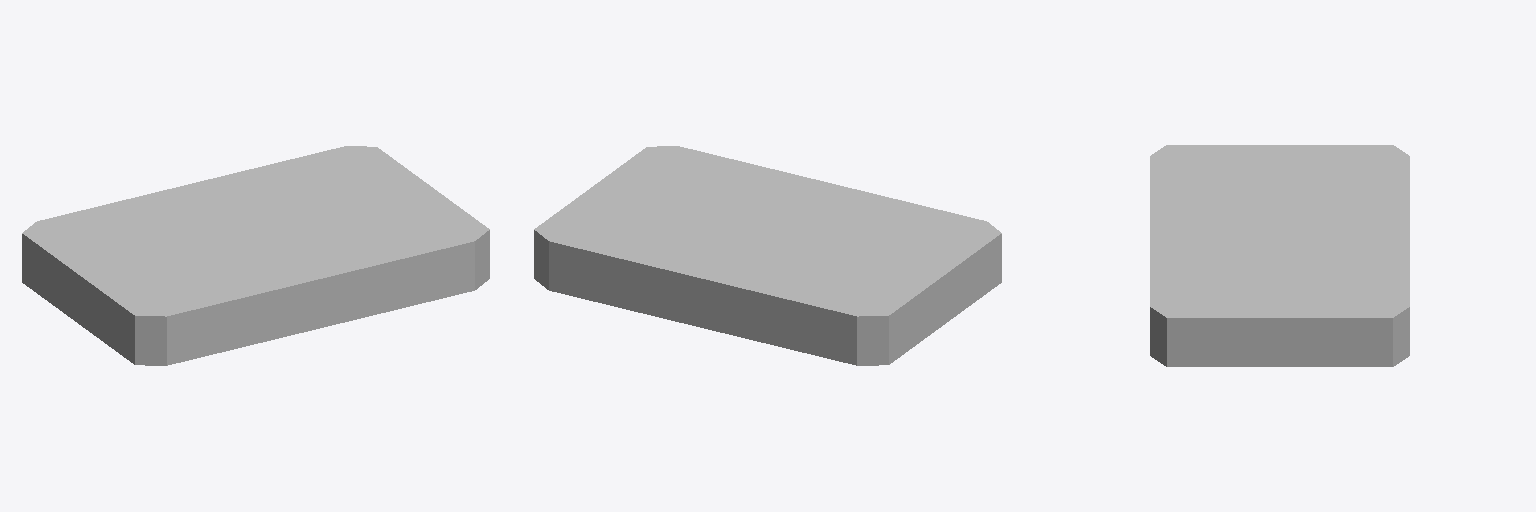
Rendered from chainPart.obj.
3 views of the same model, side by side, from view 1: azimuth 30°, elevation 25°; view 2: azimuth 150°, elevation 25°; view 3: azimuth 270°, elevation 25° (orthographic).
Parts seen in each view (by area): view 1: Cube_Cube.001; view 2: Cube_Cube.001; view 3: Cube_Cube.001.
Part boxes in pixels (bbox=[...]): Cube_Cube.001: bbox=[22, 146, 489, 365]; Cube_Cube.001: bbox=[534, 146, 1001, 365]; Cube_Cube.001: bbox=[1150, 145, 1409, 366].
Size of the model in its own units: 1.5 by 0.2 by 0.9547.